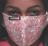with_mask: (1, 1, 48, 46)
